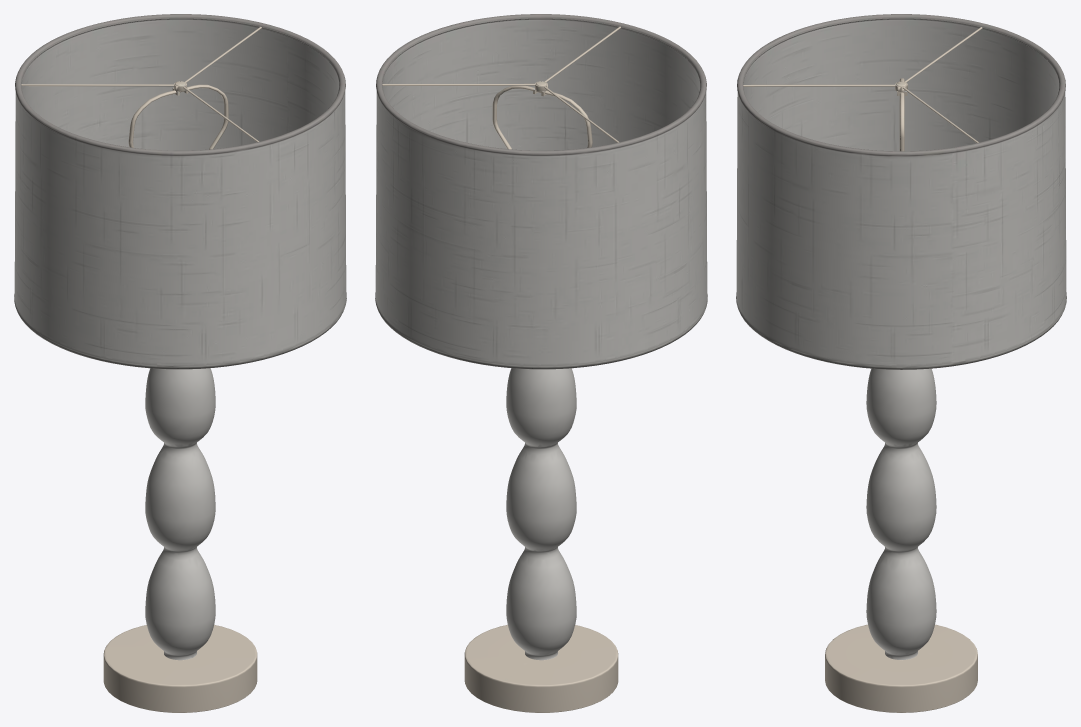
The picture shows the model from 3 angles, left to right: view 1: azimuth 30°, elevation 25°; view 2: azimuth 150°, elevation 25°; view 3: azimuth 270°, elevation 25°; orthographic projection.
Parts seen in each view (by area): view 1: RootNode; view 2: RootNode; view 3: RootNode.
Boxes of the visible parts, x1,y1,x2,y2 form: RootNode: (14,14,346,712); RootNode: (375,14,707,712); RootNode: (736,14,1066,712).
Bounding box in the file's own units: 0.2824 × 0.5591 × 0.2805.
1 material, 1 textured.
